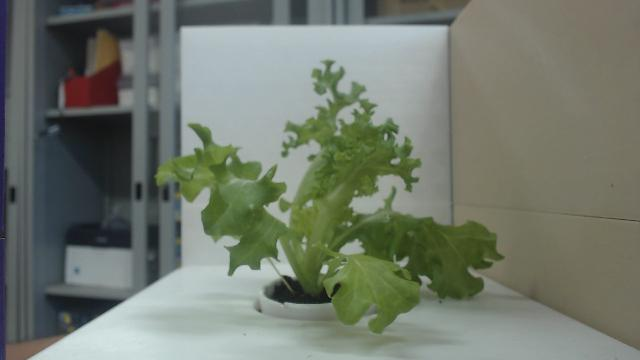Harvest Stage: (154, 57, 506, 335)
